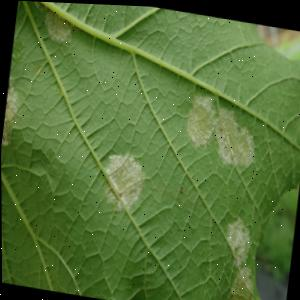Folha: (0, 0, 300, 300)
Fungo: (181, 84, 261, 169), (97, 145, 147, 214), (27, 1, 75, 46), (221, 211, 253, 267), (222, 257, 260, 300), (0, 76, 19, 148), (41, 6, 73, 44)
